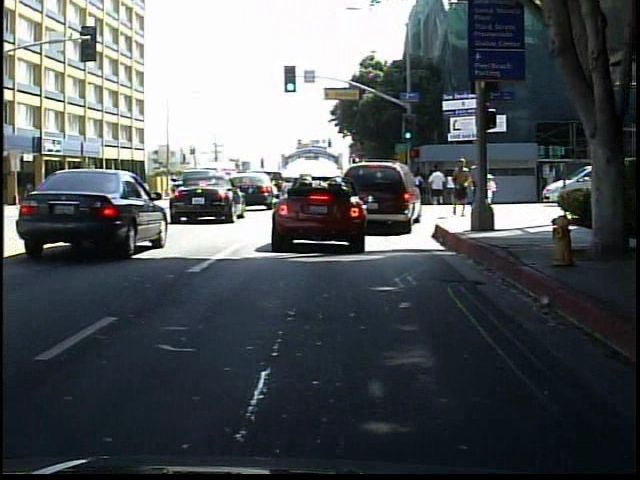person: (448, 156, 471, 220), (477, 173, 498, 211), (110, 175, 129, 204)
